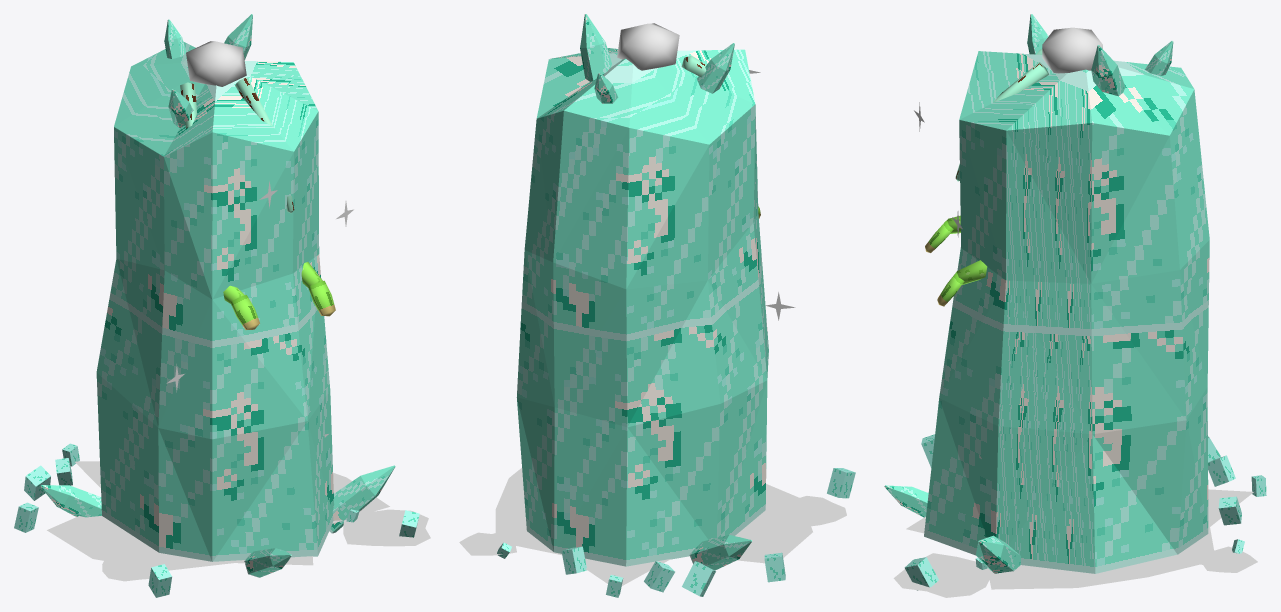
Rendered from Frozen Walker.fbx.
The picture shows the model from 3 angles, left to right: view 1: azimuth 30°, elevation 25°; view 2: azimuth 150°, elevation 25°; view 3: azimuth 270°, elevation 25°; orthographic projection. The views are drawn at different scales.
Parts seen in each view (by area): view 1: Frozen Walker ice chunk 2 2, Frozen Walker ice chunk 2 1, Frozen Walker ice chunk 1 1, Frozen Walker ice chunk 0 2, Frozen Walker ice chunk 1 2, Frozen Walker ice chunk 0 1, Frozen Walker frost 0, Frozen Walker frost 1, Frozen Walker mint scoop, Frozen Walker ice spike 3.001, Frozen Walker frost 2, Frozen Walker ice spike 4.001 (+10 smaller); view 2: Frozen Walker ice chunk 2 1, Frozen Walker ice chunk 2 0, Frozen Walker ice chunk 1 1, Frozen Walker ice chunk 0 1, Frozen Walker ice chunk 1 0, Frozen Walker ice chunk 0 0, Frozen Walker frost 0, Frozen Walker mint scoop, Frozen Walker frost 2, Frozen Walker ice spike 4.001, Frozen Walker ice spike 0.001, Frozen Walker frost 3 (+6 smaller); view 3: Frozen Walker ice chunk 2 2, Frozen Walker ice chunk 2 0, Frozen Walker ice chunk 0 2, Frozen Walker ice chunk 1 2, Frozen Walker ice chunk 1 0, Frozen Walker ice chunk 0 0, Frozen Walker frost 0, Frozen Walker frost 1, Frozen Walker mint scoop, Frozen Walker frost 3, Frozen Walker ice spike 3.001, Frozen Walker ice spike 0.001 (+7 smaller).
Boxes of the visible parts, bbox=[...] form: Frozen Walker ice chunk 2 2: bbox=[212, 61, 319, 299]; Frozen Walker ice chunk 2 1: bbox=[114, 62, 216, 298]; Frozen Walker ice chunk 1 1: bbox=[96, 258, 212, 439]; Frozen Walker ice chunk 0 2: bbox=[212, 390, 334, 561]; Frozen Walker ice chunk 1 2: bbox=[212, 254, 330, 439]; Frozen Walker ice chunk 0 1: bbox=[96, 373, 212, 561]; Frozen Walker frost 0: bbox=[47, 461, 389, 570]; Frozen Walker frost 1: bbox=[343, 509, 430, 546]; Frozen Walker mint scoop: bbox=[186, 41, 246, 86]; Frozen Walker ice spike 3.001: bbox=[329, 465, 395, 533]; Frozen Walker frost 2: bbox=[102, 553, 166, 581]; Frozen Walker ice spike 4.001: bbox=[40, 485, 101, 517]; Frozen Walker ice chunk 2 1: bbox=[626, 49, 758, 289]; Frozen Walker ice chunk 2 0: bbox=[524, 53, 633, 288]; Frozen Walker ice chunk 1 1: bbox=[626, 214, 768, 427]; Frozen Walker ice chunk 0 1: bbox=[626, 380, 767, 566]; Frozen Walker ice chunk 1 0: bbox=[517, 250, 627, 426]; Frozen Walker ice chunk 0 0: bbox=[517, 397, 627, 566]; Frozen Walker frost 0: bbox=[495, 468, 812, 585]; Frozen Walker mint scoop: bbox=[617, 23, 679, 70]; Frozen Walker frost 2: bbox=[776, 496, 846, 527]; Frozen Walker ice spike 4.001: bbox=[689, 535, 752, 570]; Frozen Walker ice spike 0.001: bbox=[580, 14, 611, 81]; Frozen Walker frost 3: bbox=[459, 530, 520, 555]; Frozen Walker ice chunk 2 2: bbox=[959, 51, 1092, 283]; Frozen Walker ice chunk 2 0: bbox=[1086, 60, 1209, 283]; Frozen Walker ice chunk 0 2: bbox=[924, 398, 1095, 573]; Frozen Walker ice chunk 1 2: bbox=[939, 247, 1092, 434]; Frozen Walker ice chunk 1 0: bbox=[1091, 240, 1209, 434]; Frozen Walker ice chunk 0 0: bbox=[1092, 387, 1208, 573]; Frozen Walker frost 0: bbox=[906, 489, 1253, 589]; Frozen Walker frost 1: bbox=[893, 553, 993, 597]; Frozen Walker mint scoop: bbox=[1042, 27, 1102, 73]; Frozen Walker frost 3: bbox=[1187, 546, 1257, 572]; Frozen Walker ice spike 3.001: bbox=[976, 535, 1020, 573]; Frozen Walker ice spike 0.001: bbox=[1091, 45, 1125, 96].
Bounding box in the file's own units: 1.62 × 2.4 × 1.6.
17 materials, 13 textured.
